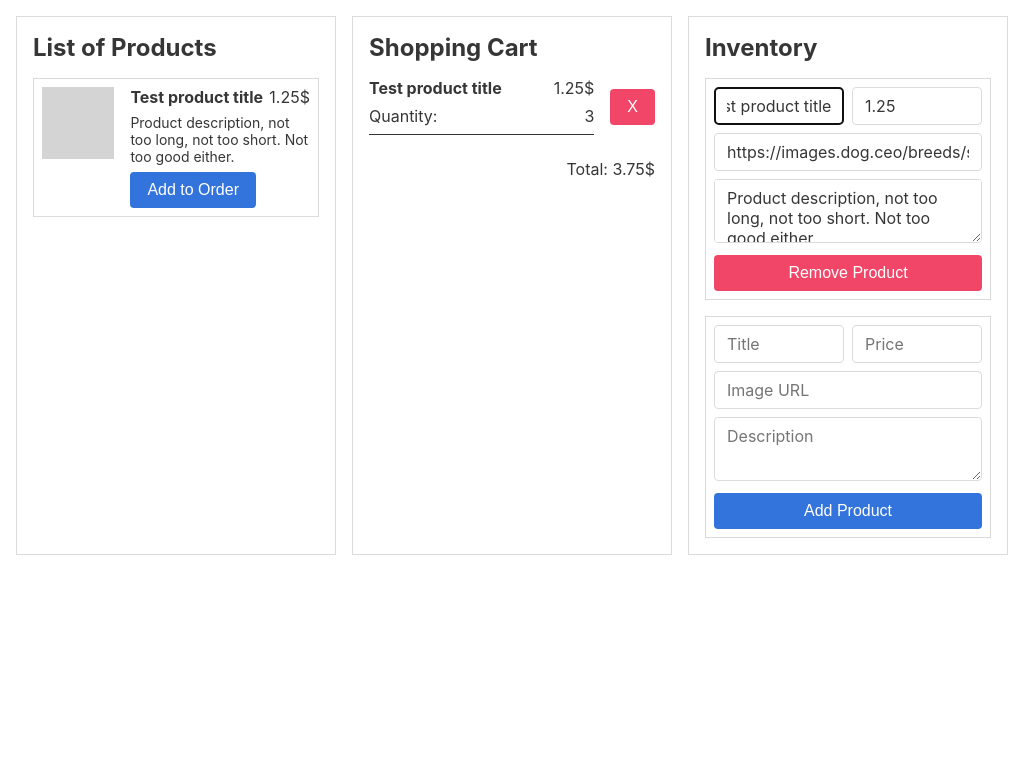
Test: Full Flow of the App › removes the item from the cart
Click the button "X" at (633, 107), box [610, 89, 655, 125]
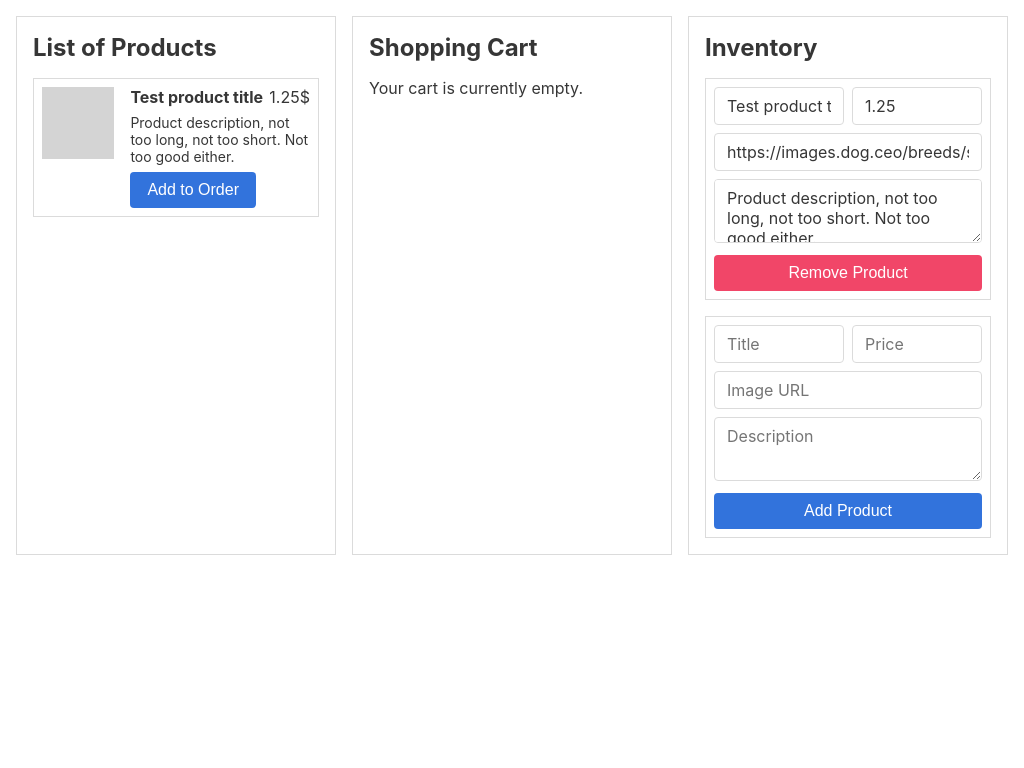
Now the text "Quantity" is gone
Now the button "X" is gone
